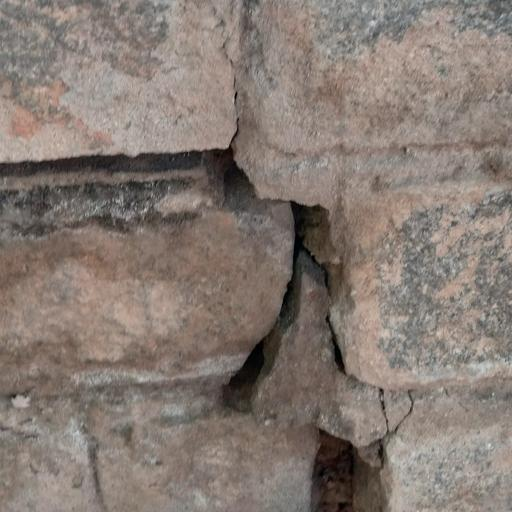major_crack: (5, 106, 405, 508)
